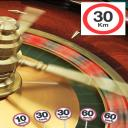speed_limit_30: (83, 3, 124, 34), (54, 106, 73, 120), (33, 109, 51, 123)
speed_limit_60: (100, 110, 119, 124), (79, 108, 97, 121)
